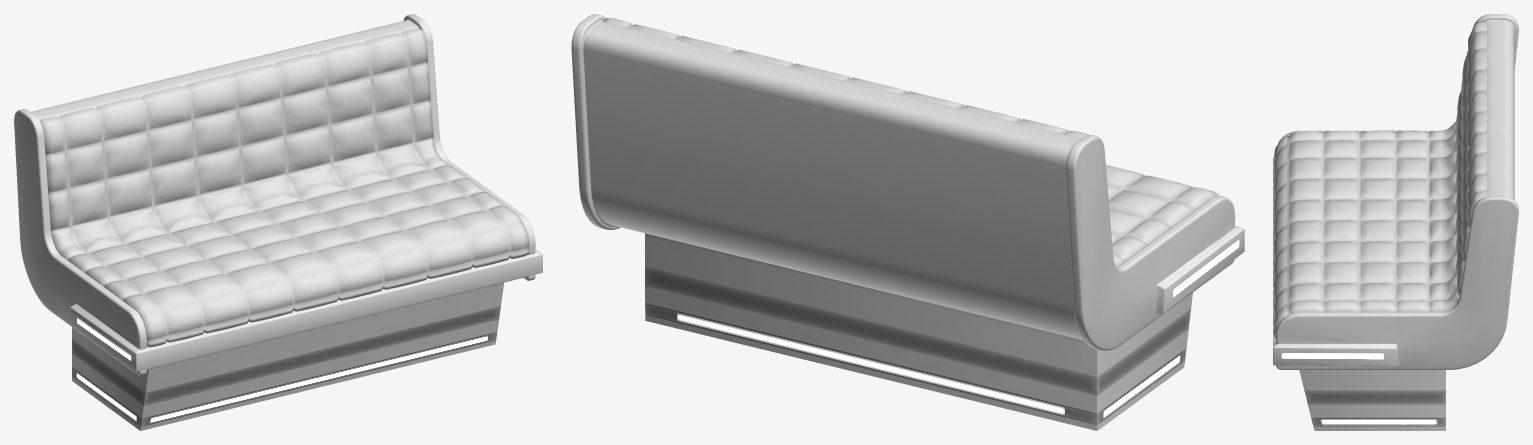
File: Sofa02_2.FBX
3 renders of one model, left to right at view 1: azimuth 30°, elevation 25°; view 2: azimuth 150°, elevation 25°; view 3: azimuth 270°, elevation 25°, orthographic. The views are drawn at different scales.
Visible parts, largest first — view 1: Sofa02_2; view 2: Sofa02_2; view 3: Sofa02_2.
Boxes of the visible parts, x1,y1,x2,y2 form: Sofa02_2: (14, 14, 542, 430); Sofa02_2: (571, 14, 1244, 430); Sofa02_2: (1273, 14, 1518, 430).
Size of what is drawn, in the model's own units: 1.89 by 1.11 by 1.02.
